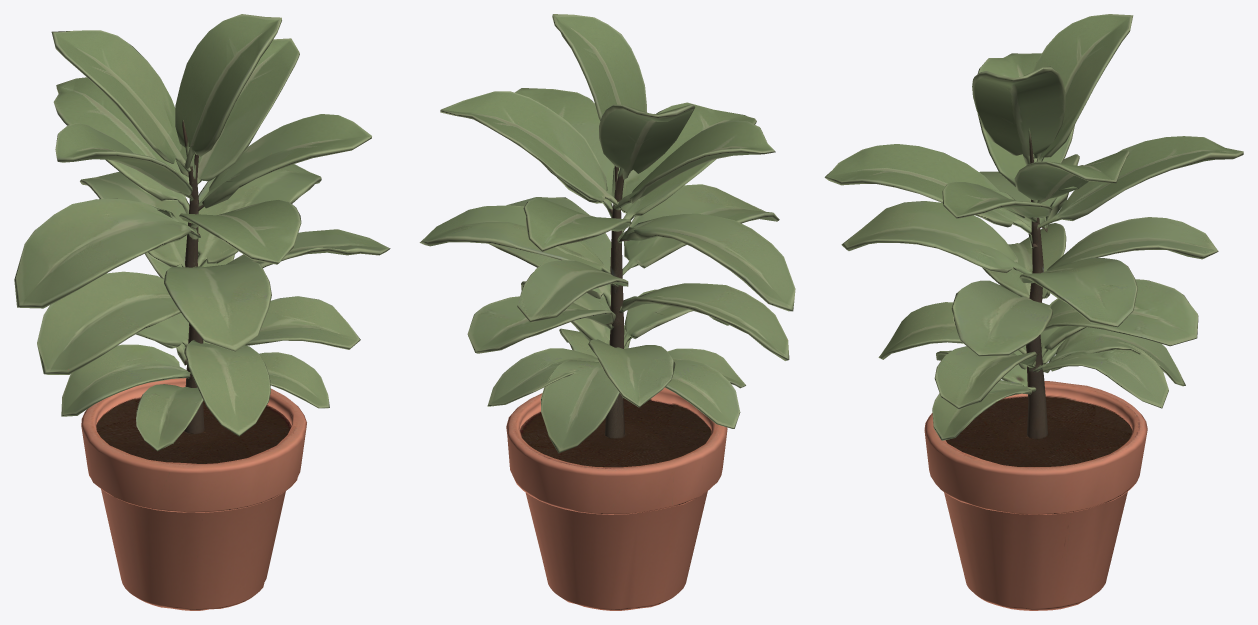
Rendered from plant-pot.raw.glb.
3 renders of one model, left to right at view 1: azimuth 30°, elevation 25°; view 2: azimuth 150°, elevation 25°; view 3: azimuth 270°, elevation 25°, orthographic. The views are drawn at different scales.
Size of the model in its own units: 0.6201 by 0.9521 by 0.6665.
Materials: 1 (1 with a texture image).
